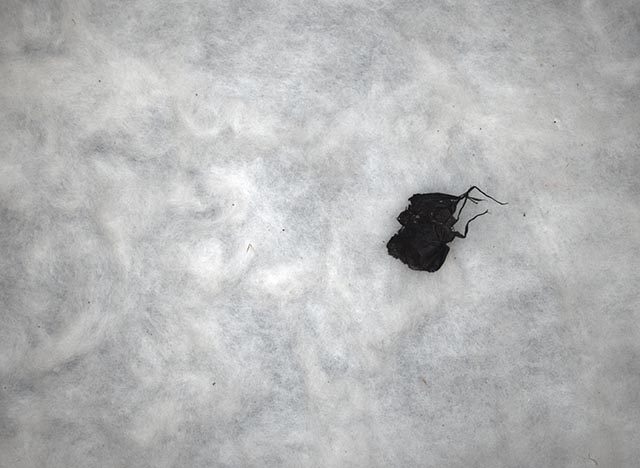plastic film: (386, 184, 510, 275)
